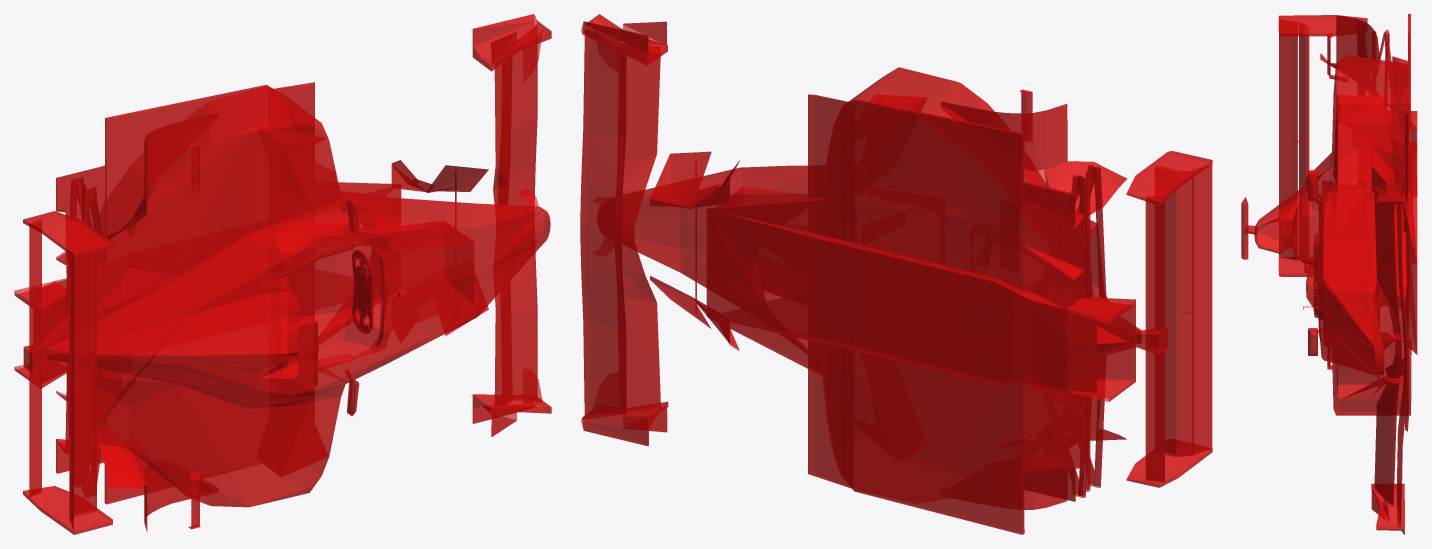
The model's file is CFR22 Try 2_RT_ges_chassis.obj.
3 renders of one model, left to right at view 1: azimuth 30°, elevation 25°; view 2: azimuth 150°, elevation 25°; view 3: azimuth 270°, elevation 25°, orthographic. The views are drawn at different scales.
Visible parts, largest first — view 1: Mesh28, Mesh49, Mesh75, Mesh85, Mesh72, Mesh16, Mesh92, Mesh47, Mesh53, Mesh88, Mesh73, Mesh86 (+15 smaller); view 2: Mesh28, Mesh75, Mesh53, Mesh72, Mesh85, Mesh4, Mesh23, Mesh84, Mesh92, Mesh42, Mesh88, Mesh49 (+12 smaller); view 3: Mesh28, Mesh49, Mesh72, Mesh84, Mesh81, Mesh75, Mesh88, Mesh85, Mesh86, Mesh87, Mesh53, Mesh73 (+10 smaller).
Part boxes in pixels (<box>): Mesh28: <box>42,84,550,507</box>; Mesh49: <box>269,221,473,330</box>; Mesh75: <box>508,25,537,400</box>; Mesh85: <box>69,252,96,520</box>; Mesh72: <box>493,56,512,410</box>; Mesh16: <box>270,312,390,383</box>; Mesh92: <box>29,219,41,497</box>; Mesh47: <box>24,282,131,373</box>; Mesh53: <box>273,82,314,365</box>; Mesh88: <box>144,112,218,206</box>; Mesh73: <box>472,14,551,71</box>; Mesh86: <box>23,211,112,257</box>; Mesh28: <box>634,67,1141,534</box>; Mesh75: <box>580,28,626,418</box>; Mesh53: <box>808,94,855,488</box>; Mesh72: <box>620,43,660,411</box>; Mesh85: <box>1157,168,1193,456</box>; Mesh4: <box>1023,377,1085,501</box>; Mesh23: <box>1023,181,1085,299</box>; Mesh84: <box>1193,164,1212,454</box>; Mesh92: <box>1145,196,1164,482</box>; Mesh42: <box>1023,295,1135,401</box>; Mesh88: <box>941,101,1067,170</box>; Mesh49: <box>716,187,807,297</box>; Mesh28: <box>1254,14,1417,415</box>; Mesh49: <box>1323,220,1396,346</box>; Mesh72: <box>1374,189,1401,505</box>; Mesh84: <box>1279,19,1297,260</box>; Mesh81: <box>1322,180,1396,248</box>; Mesh75: <box>1396,200,1408,526</box>; Mesh88: <box>1336,15,1379,73</box>; Mesh85: <box>1299,35,1309,273</box>; Mesh86: <box>1278,15,1367,36</box>; Mesh87: <box>1371,483,1405,534</box>; Mesh53: <box>1405,94,1408,431</box>; Mesh73: <box>1371,165,1404,203</box>.
Size of the model in its own units: 2311 by 1629 by 756.
